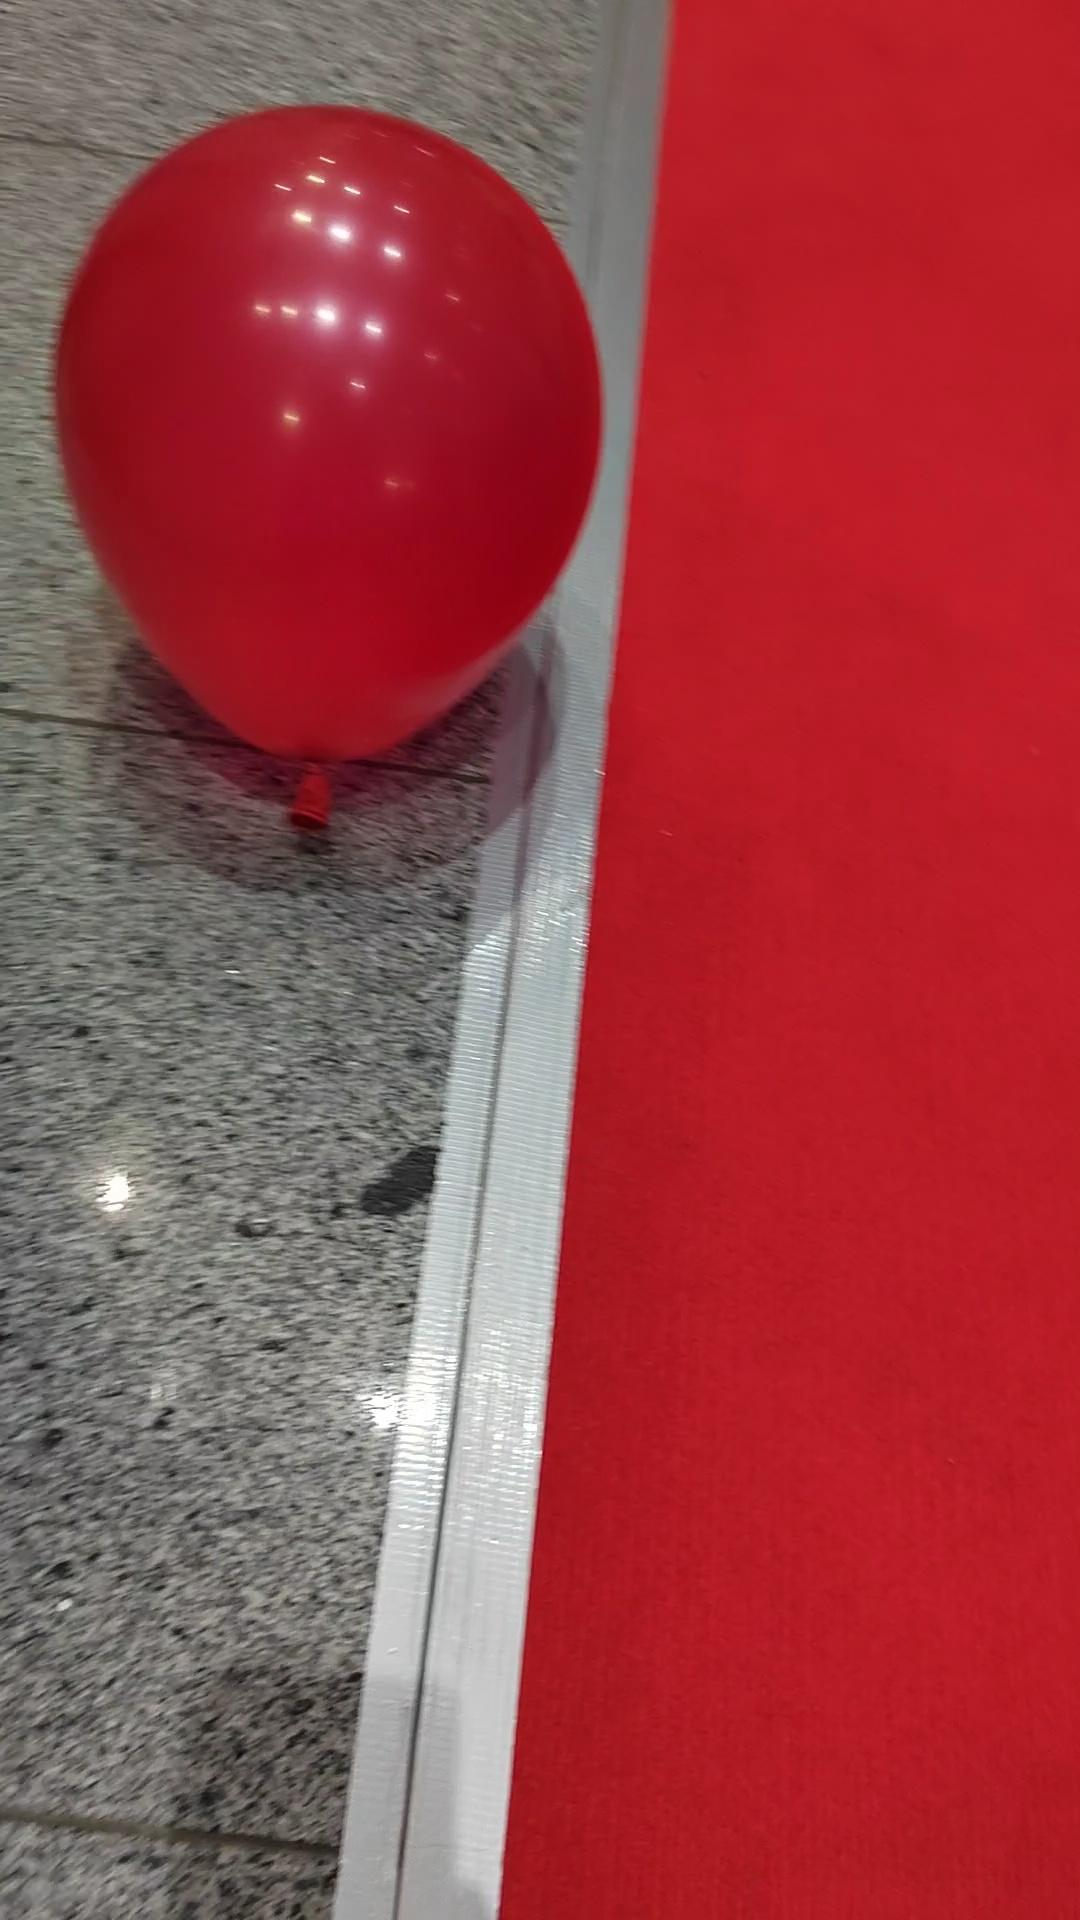red: (53, 105, 609, 793)
